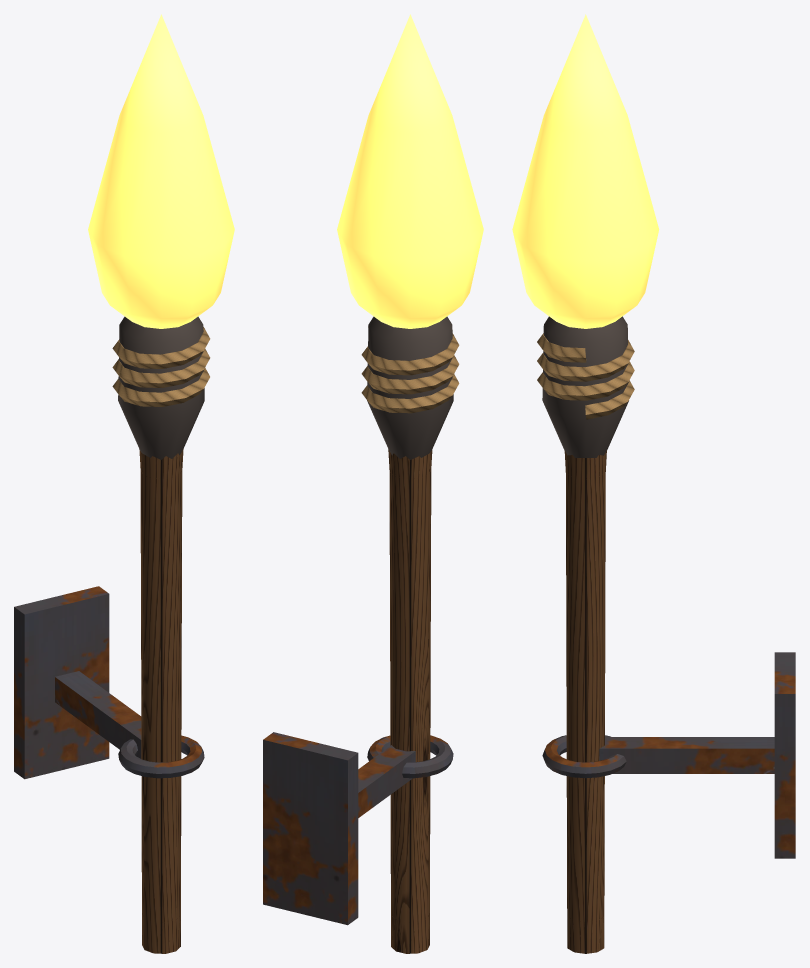
Rendered from Torch.glb.
The picture shows the model from 3 angles, left to right: view 1: azimuth 30°, elevation 25°; view 2: azimuth 150°, elevation 25°; view 3: azimuth 270°, elevation 25°; orthographic projection.
Parts seen in each view (by area): view 1: Torch, Flame; view 2: Torch, Flame; view 3: Torch, Flame.
Boxes of the visible parts, x1=… form: Torch: x1=14, y1=316, x2=210, y2=953; Flame: x1=88, y1=14, x2=234, y2=328; Torch: x1=263, y1=316, x2=459, y2=953; Flame: x1=337, y1=14, x2=483, y2=328; Torch: x1=537, y1=316, x2=795, y2=953; Flame: x1=512, y1=14, x2=659, y2=328.
Size of the model in its own units: 0.21 by 1.47 by 0.405.
5 materials, 3 textured.
